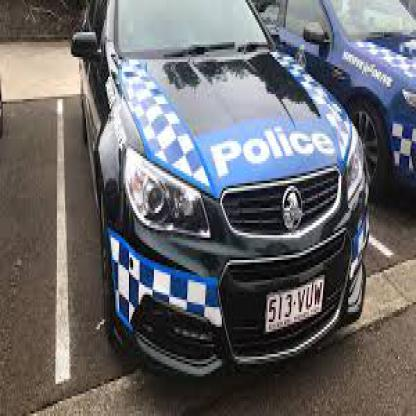car: (69, 0, 369, 377), (258, 0, 415, 198)
